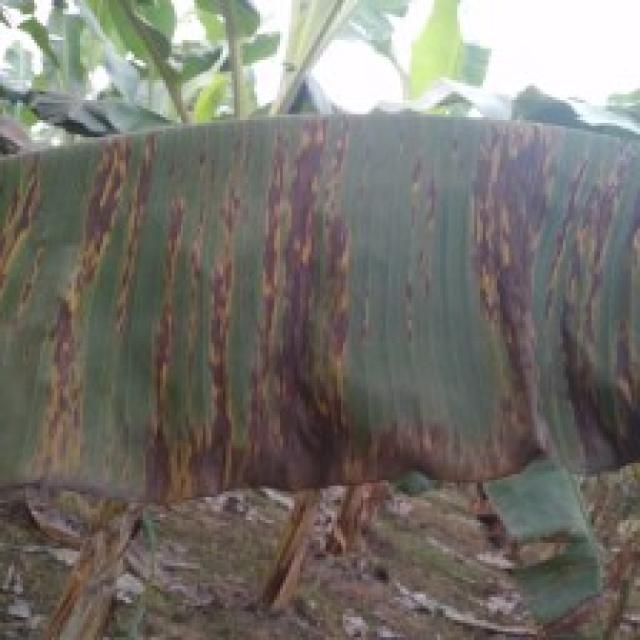Early_leaf_spot: (0, 108, 640, 498)
